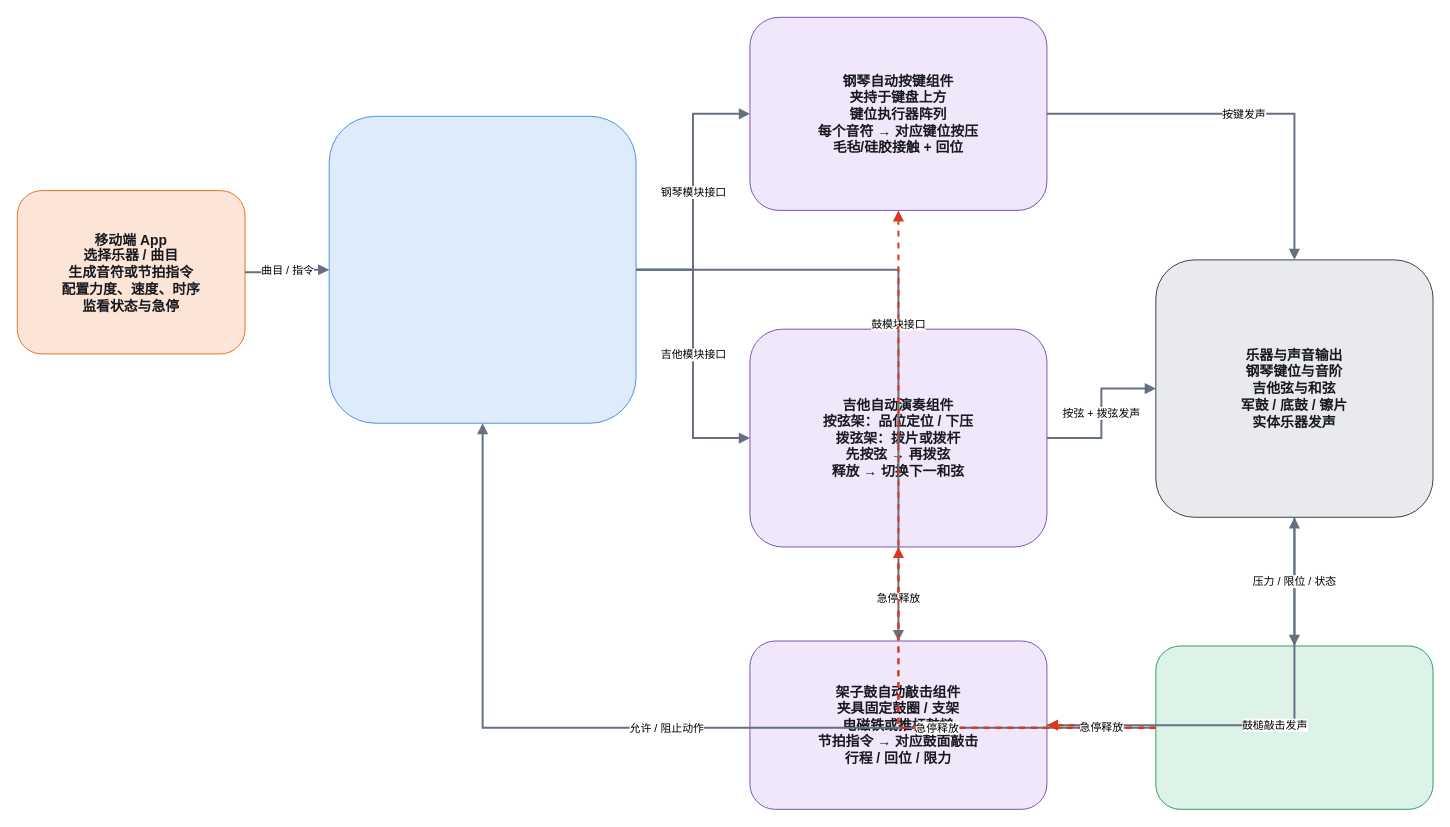
This 1450x827 diagram has some shape labels left out. The box of each missing label's shape, as (x1, y1, x2, y2) in pixels:
反馈与安全 FSR / 限位 / 回位 模块在位检测 过流 / 超温 / 超时 急停释放全部组件: (1155, 645, 1433, 809)
通用控制器主机 主控 MCU / 协议解析 可扩展驱动通道 供电、限流、急停 传感器采集与状态回读 模块身份识别 / 快拆接口: (328, 115, 636, 423)
